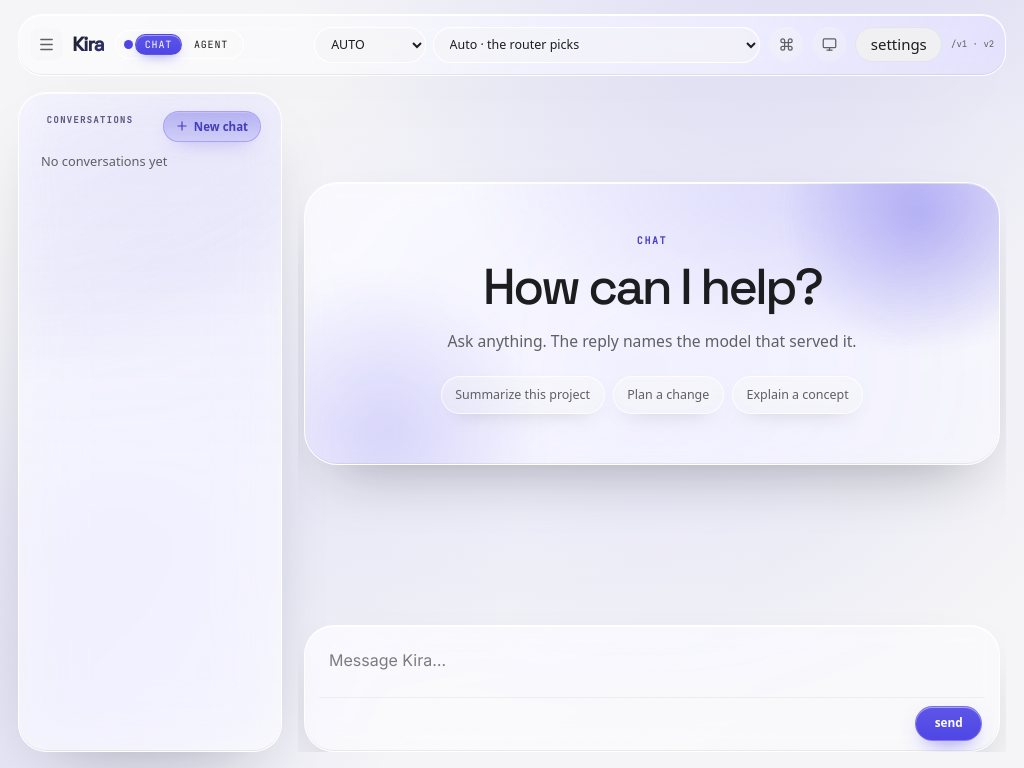
App › streams an answer and shows which provider served it
This screenshot has width=1024, height=768.
Type "hi Kira" into the text box labelled "Message".
click(652, 663); type("hi Kira")  # box [319, 639, 985, 687]
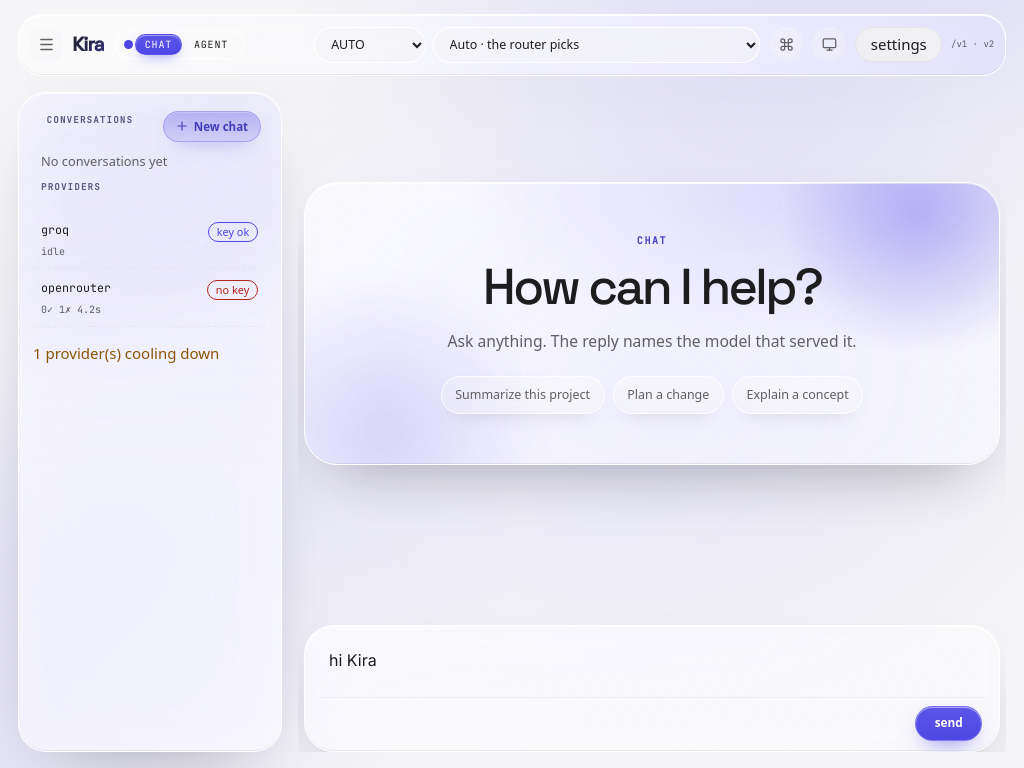
Click the button "send".
click(949, 723)  # box [915, 706, 982, 741]
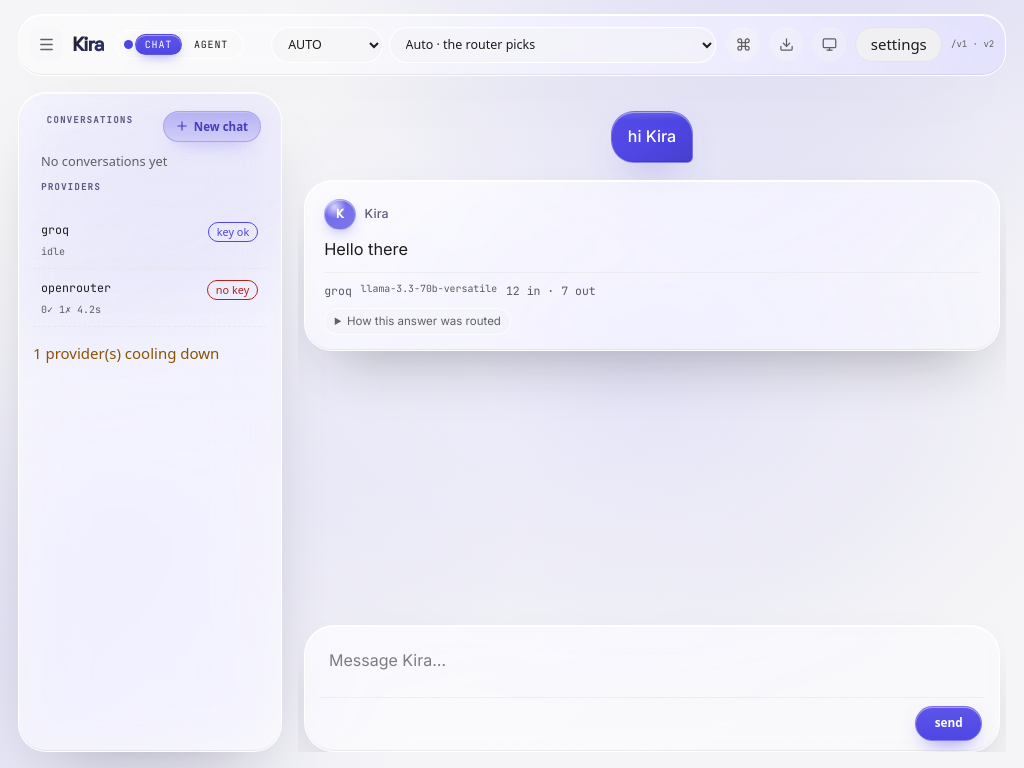
Expected: the text "0✓ 1✗ 4.2s" is shown, [41, 303, 101, 316]
Expected: the text "Hello there" is shown, [324, 239, 408, 259]
Expected: the heading "How this answer was routed" is shown, [324, 308, 512, 335]
